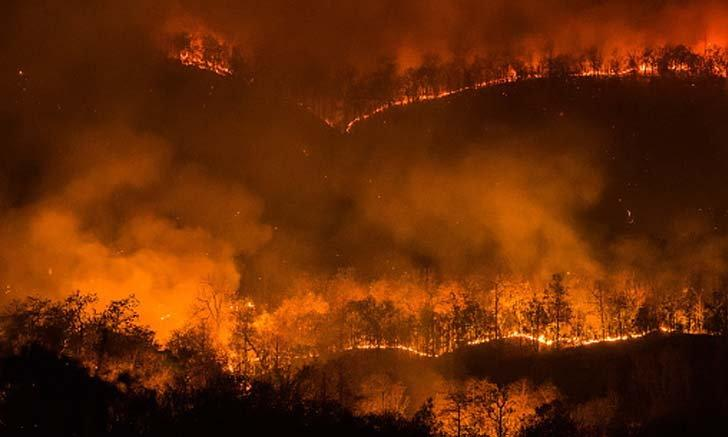fire: (33, 230, 289, 414), (332, 24, 728, 118), (297, 290, 598, 386), (358, 358, 576, 437)
